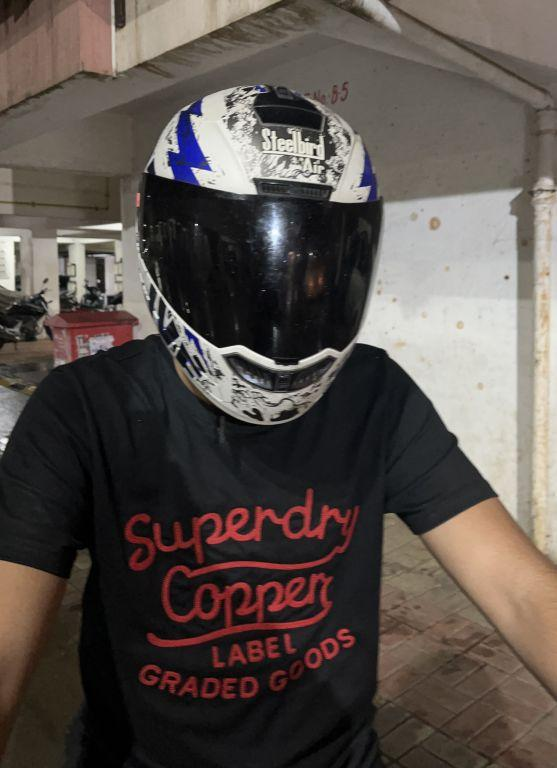helmet: (120, 60, 394, 441)
